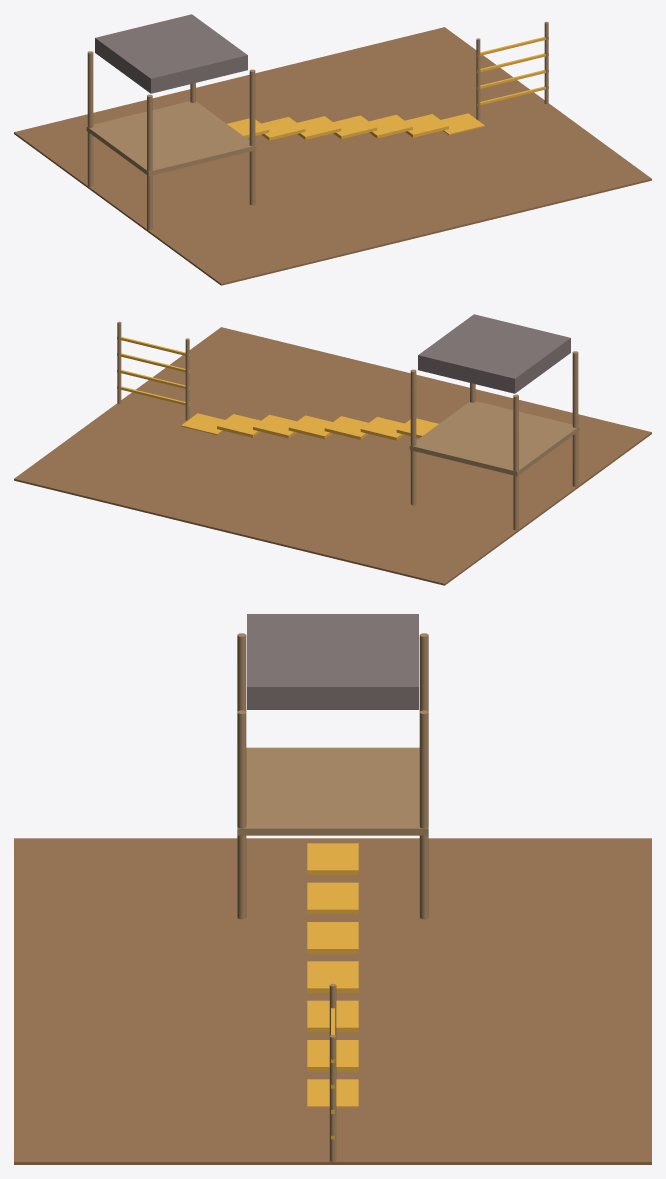
Rendered from playground-structure.glb.
3 views of the same model, one above another, from view 1: azimuth 30°, elevation 25°; view 2: azimuth 150°, elevation 25°; view 3: azimuth 270°, elevation 25° (orthographic). The views are drawn at different scales.
Parts seen in each view (by area): view 1: playground-structure-0, playground-structure-1, playground-structure-6, playground-structure-7; view 2: playground-structure-0, playground-structure-1, playground-structure-6, playground-structure-7; view 3: playground-structure-0, playground-structure-1, playground-structure-6, playground-structure-7.
Part boxes in pixels (<box>): playground-structure-0: <box>14,27,651,285</box>; playground-structure-1: <box>86,21,548,230</box>; playground-structure-6: <box>95,14,247,93</box>; playground-structure-7: <box>227,37,548,140</box>; playground-structure-0: <box>14,327,651,585</box>; playground-structure-1: <box>117,321,579,530</box>; playground-structure-6: <box>418,314,570,393</box>; playground-structure-7: <box>117,337,438,440</box>; playground-structure-0: <box>14,838,651,1164</box>; playground-structure-1: <box>237,633,428,1161</box>; playground-structure-6: <box>247,614,418,709</box>; playground-structure-7: <box>307,843,358,1139</box>.
Size of the model in its own units: 12 by 4 by 10.
